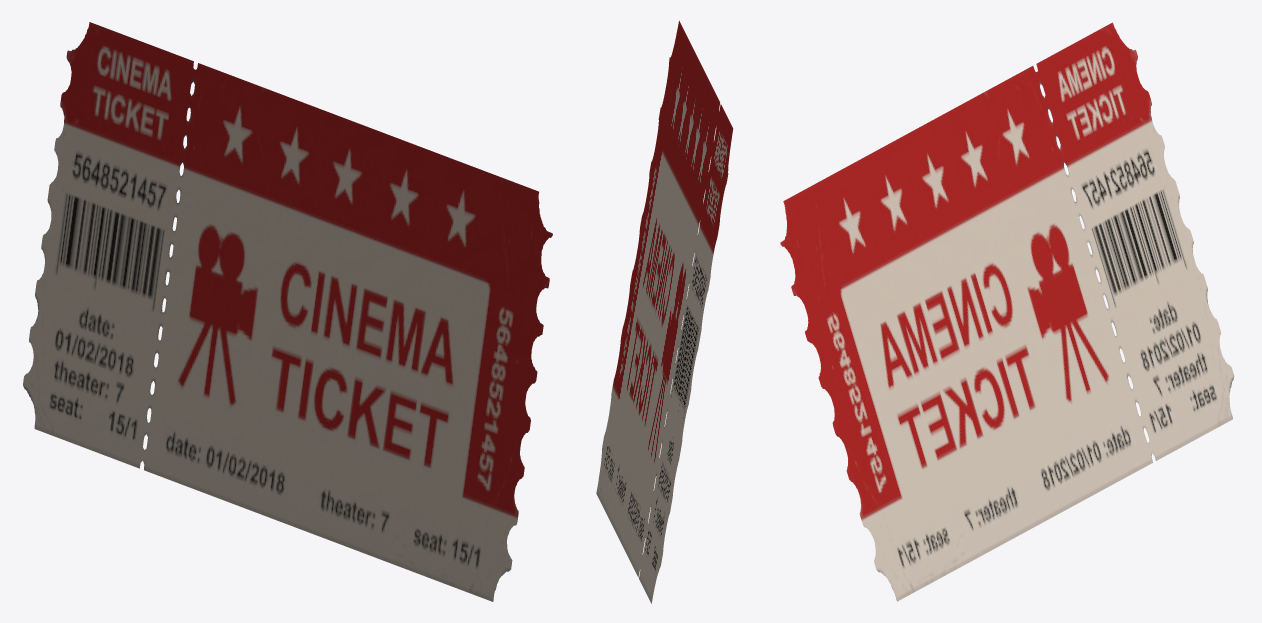
File: movie_ticket_ani.glb
3 renders of one model, left to right at view 1: azimuth 30°, elevation 25°; view 2: azimuth 150°, elevation 25°; view 3: azimuth 270°, elevation 25°, orthographic. The views are drawn at different scales.
Parts seen in each view (by area): view 1: movie_ticket; view 2: movie_ticket; view 3: movie_ticket.
Part boxes in pixels (x1=…): movie_ticket: x1=23, y1=22, x2=552, y2=601; movie_ticket: x1=596, y1=20, x2=733, y2=603; movie_ticket: x1=780, y1=22, x2=1234, y2=601.
Bounding box in the file's own units: 0.000647 × 0.00117 × 0.00108.
1 material, 1 textured.
